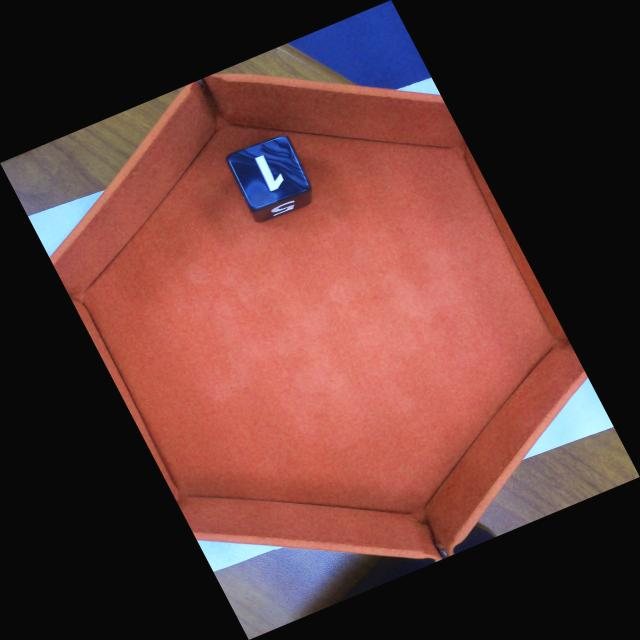dice: (227, 135, 308, 216)
